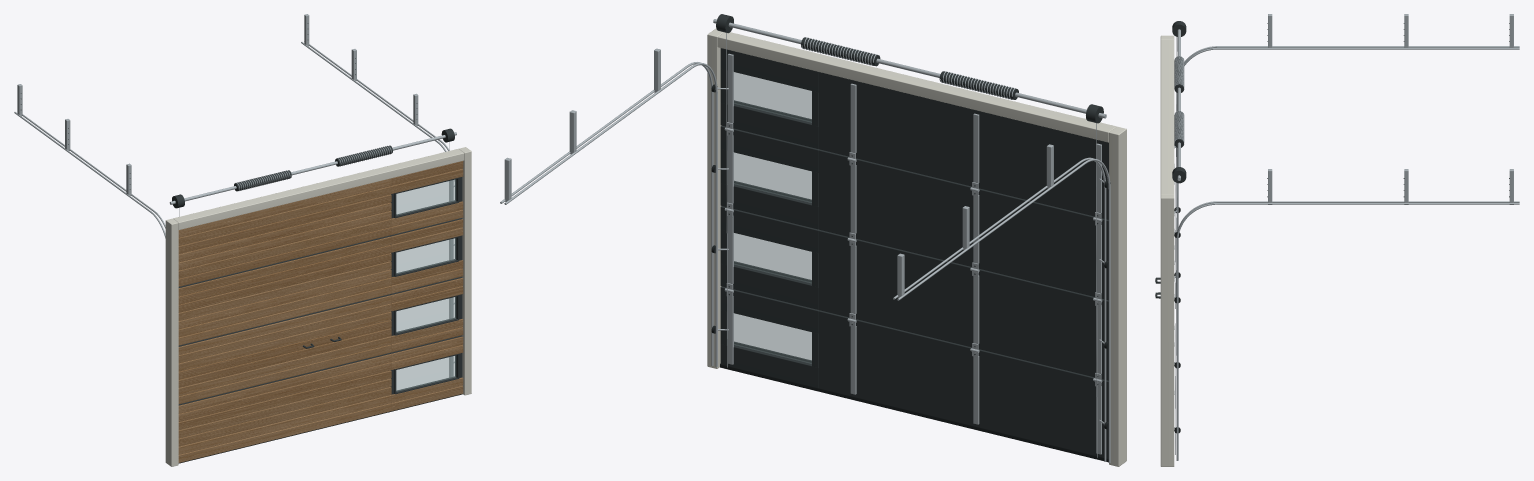
File: garage-door-slatted.glb
3 renders of one model, left to right at view 1: azimuth 30°, elevation 25°; view 2: azimuth 150°, elevation 25°; view 3: azimuth 270°, elevation 25°, orthographic. The views are drawn at different scales.
Parts seen in each view (by area): view 1: garage-door-slatted authored assembly; view 2: garage-door-slatted authored assembly; view 3: garage-door-slatted authored assembly.
Part boxes in pixels (bbox=[...]): garage-door-slatted authored assembly: bbox=[14, 14, 471, 466]; garage-door-slatted authored assembly: bbox=[500, 14, 1126, 466]; garage-door-slatted authored assembly: bbox=[1155, 14, 1519, 466].
Bounding box in the file's own units: 2.85 × 2.4 × 2.7.
7 materials, 2 textured.
